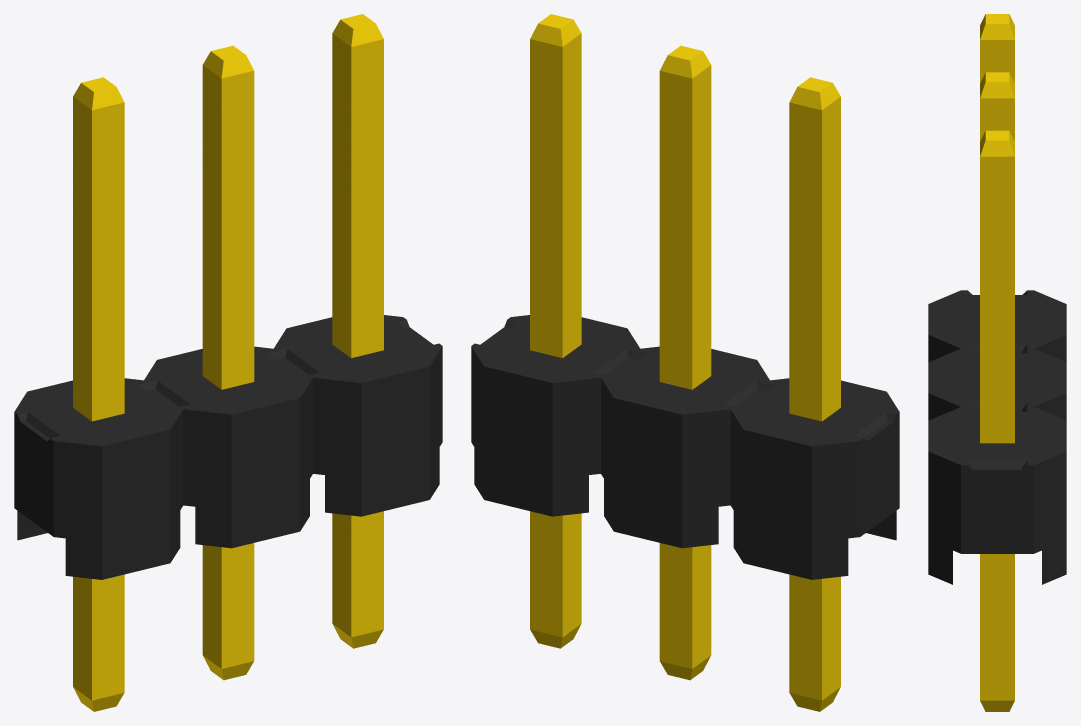
File: PLS3.glb
3 renders of one model, left to right at view 1: azimuth 30°, elevation 25°; view 2: azimuth 150°, elevation 25°; view 3: azimuth 270°, elevation 25°, orthographic. The views are drawn at different scales.
Visible parts, largest first — view 1: PLS (DS1021 CONNFLY); view 2: PLS (DS1021 CONNFLY); view 3: PLS (DS1021 CONNFLY).
Part boxes in pixels (x1,y1,x2,y2): PLS (DS1021 CONNFLY): [14, 14, 442, 711]; PLS (DS1021 CONNFLY): [471, 14, 899, 711]; PLS (DS1021 CONNFLY): [928, 14, 1066, 711].
Size of the model in its own units: 0.00762 by 0.0116 by 0.00254.
